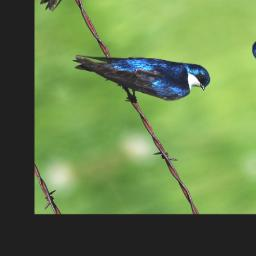Swallow: (68, 17, 216, 128)
